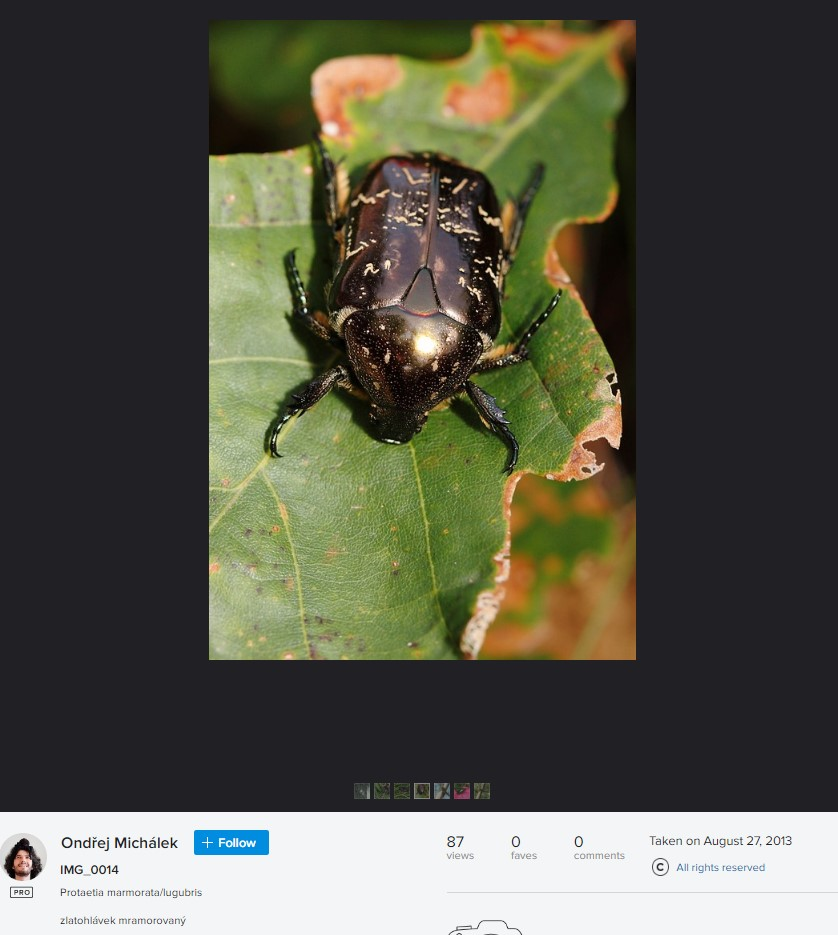Protaetia_lugubris: (257, 121, 565, 494)
